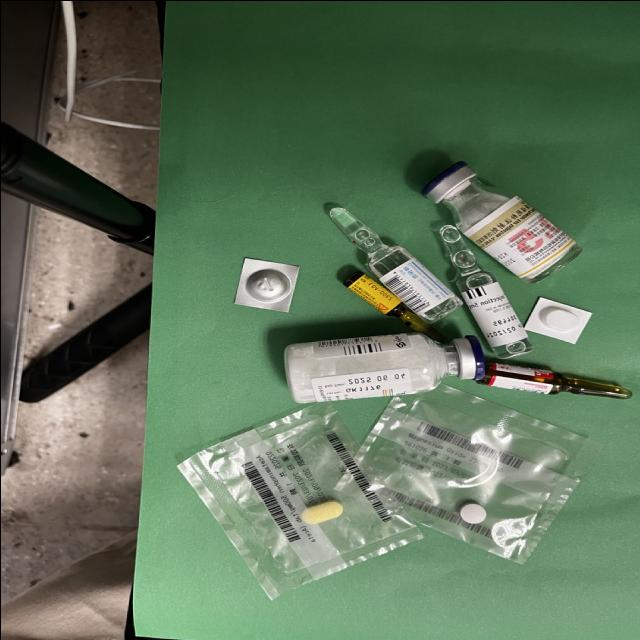Ampoules: (328, 206, 461, 322), (438, 224, 530, 358), (341, 270, 443, 340), (475, 358, 630, 398)
Vials: (421, 160, 580, 282), (283, 332, 483, 402)
